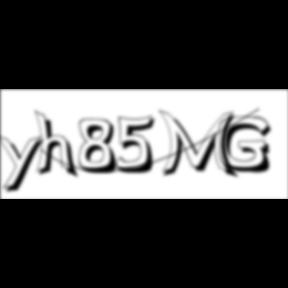5: (115, 114, 162, 176)
8: (78, 117, 124, 176)
G: (220, 116, 278, 176)
M: (158, 108, 242, 181)
h: (34, 108, 82, 182)
y: (0, 132, 50, 196)
